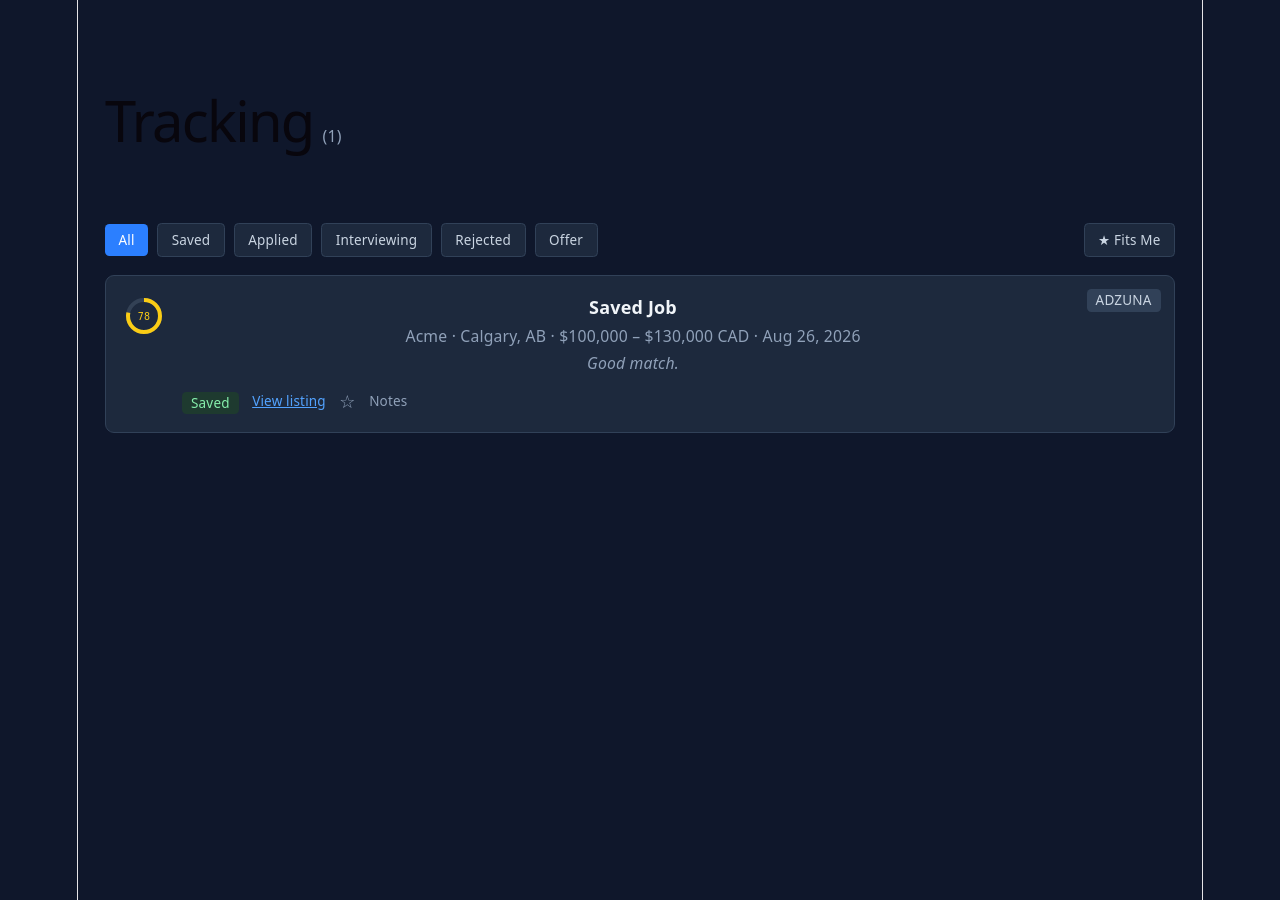
Tracking › selecting New from StatusDropdown removes the job from every tab, including All
This screenshot has width=1280, height=900.
Expected: the text "Saved Job" is shown, 589,295 -> 677,319
Click the button with test id "status-badge" at (210, 403), box 182,392 -> 239,414
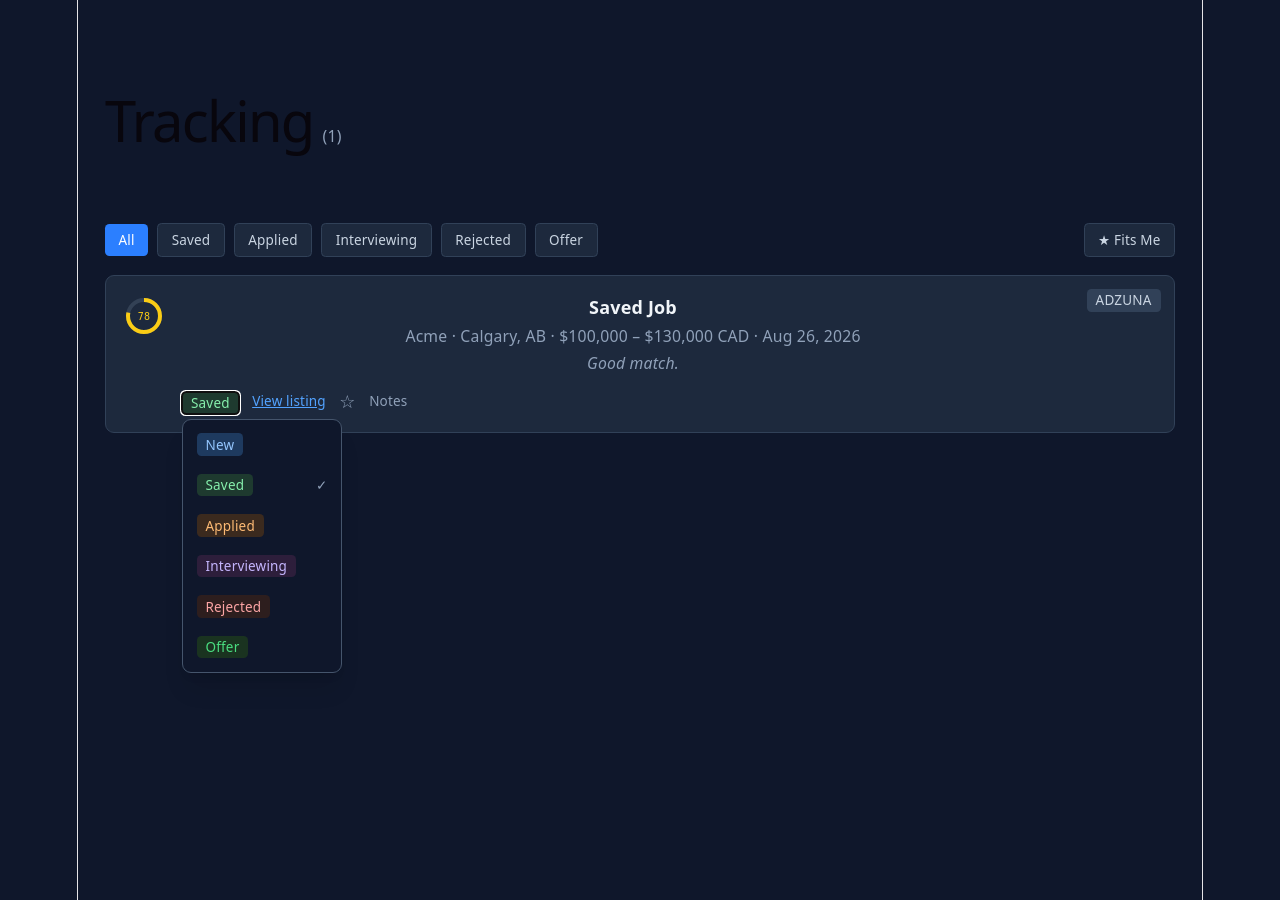
Click the option "New" at (262, 445), box 183,424 -> 341,465
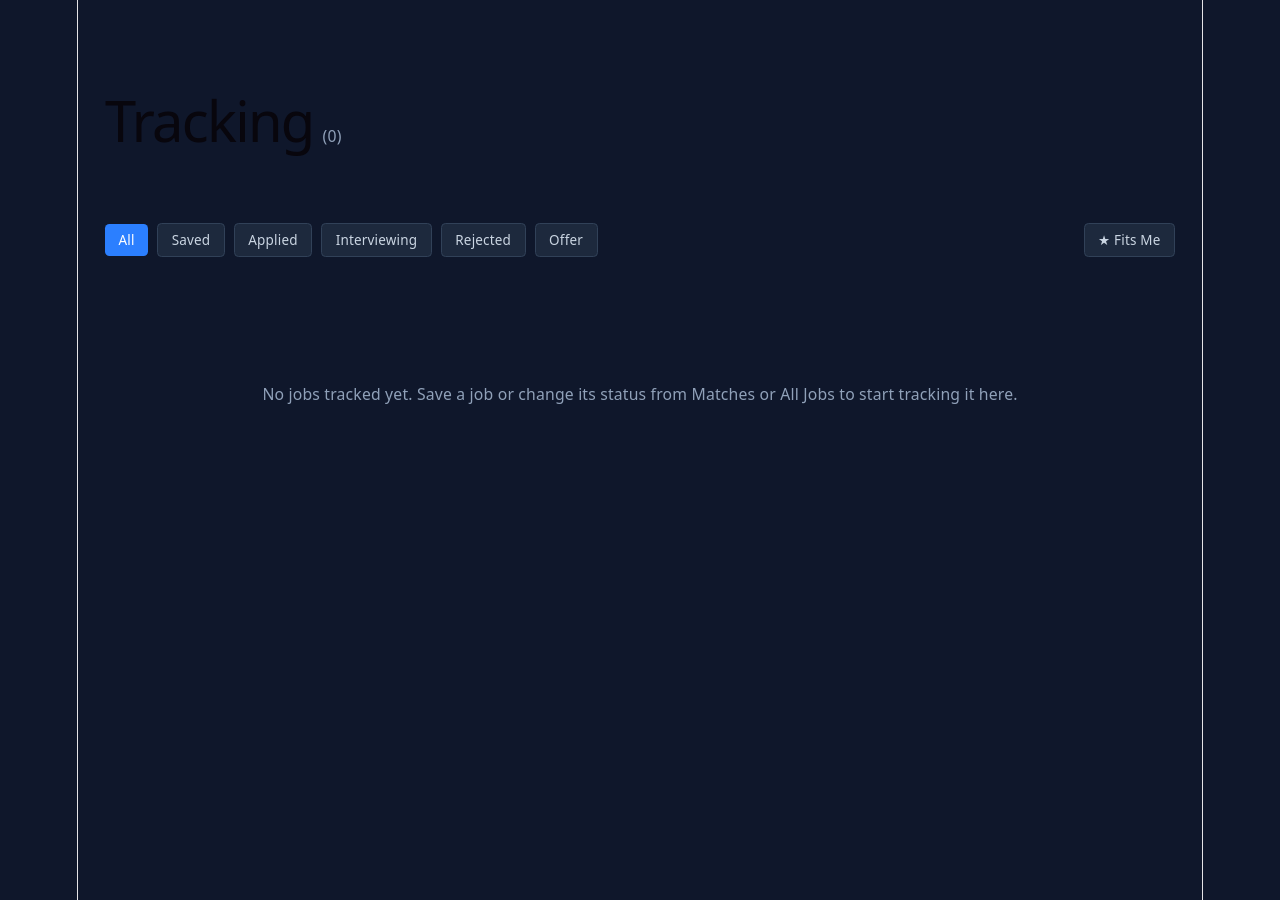
Expected: the text "Saved Job" is gone
Expected: the text "No jobs tracked yet" is shown, 262,383 -> 1018,405
